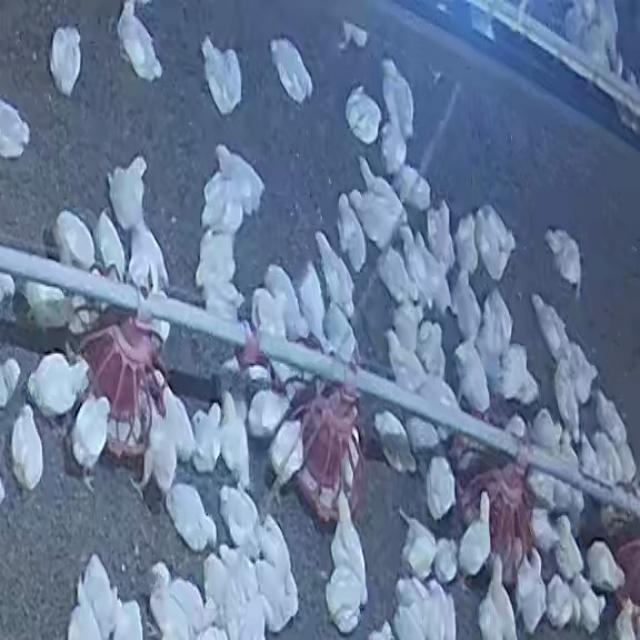chicken: (200, 144, 266, 235), (346, 157, 406, 250), (195, 228, 248, 332), (27, 348, 91, 421), (146, 369, 196, 458), (391, 573, 457, 640), (563, 1, 623, 74), (69, 394, 114, 488), (155, 561, 215, 629), (137, 402, 179, 497), (380, 58, 416, 168), (165, 481, 219, 553), (117, 0, 163, 84), (332, 495, 371, 594), (475, 289, 516, 382), (260, 265, 311, 338), (314, 232, 352, 328), (475, 554, 517, 640), (449, 335, 492, 417), (218, 388, 253, 488), (457, 488, 494, 582), (106, 154, 149, 234), (474, 204, 518, 282), (126, 221, 172, 294), (218, 483, 264, 556), (199, 36, 242, 113), (10, 403, 46, 492), (397, 508, 440, 582), (530, 293, 574, 365), (269, 36, 314, 105), (496, 343, 543, 408), (371, 409, 417, 475), (514, 548, 548, 633), (543, 227, 584, 297), (52, 210, 98, 272), (299, 263, 329, 356), (81, 557, 115, 639), (22, 280, 73, 332), (334, 190, 366, 272), (393, 222, 425, 303), (583, 536, 626, 596), (383, 332, 422, 398), (254, 508, 289, 581), (207, 556, 240, 633), (249, 293, 285, 362), (152, 573, 189, 640), (245, 387, 290, 442), (450, 271, 483, 346), (418, 233, 451, 308), (592, 387, 630, 452), (218, 541, 257, 603), (267, 417, 300, 490), (377, 244, 416, 305), (564, 339, 602, 401), (344, 85, 382, 146), (551, 514, 585, 581), (324, 567, 361, 628), (258, 556, 288, 631), (556, 362, 584, 442), (95, 210, 127, 279), (425, 452, 456, 522), (0, 94, 32, 160), (452, 210, 480, 281), (546, 576, 582, 630), (425, 203, 454, 267), (612, 70, 640, 136), (52, 29, 79, 93), (398, 166, 434, 212), (573, 578, 601, 634), (418, 323, 446, 377), (432, 536, 460, 585), (562, 2, 586, 45), (1, 357, 21, 407)
